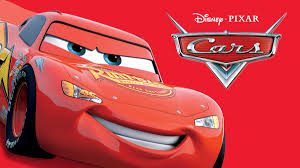mcqueen: (1, 10, 227, 167)
